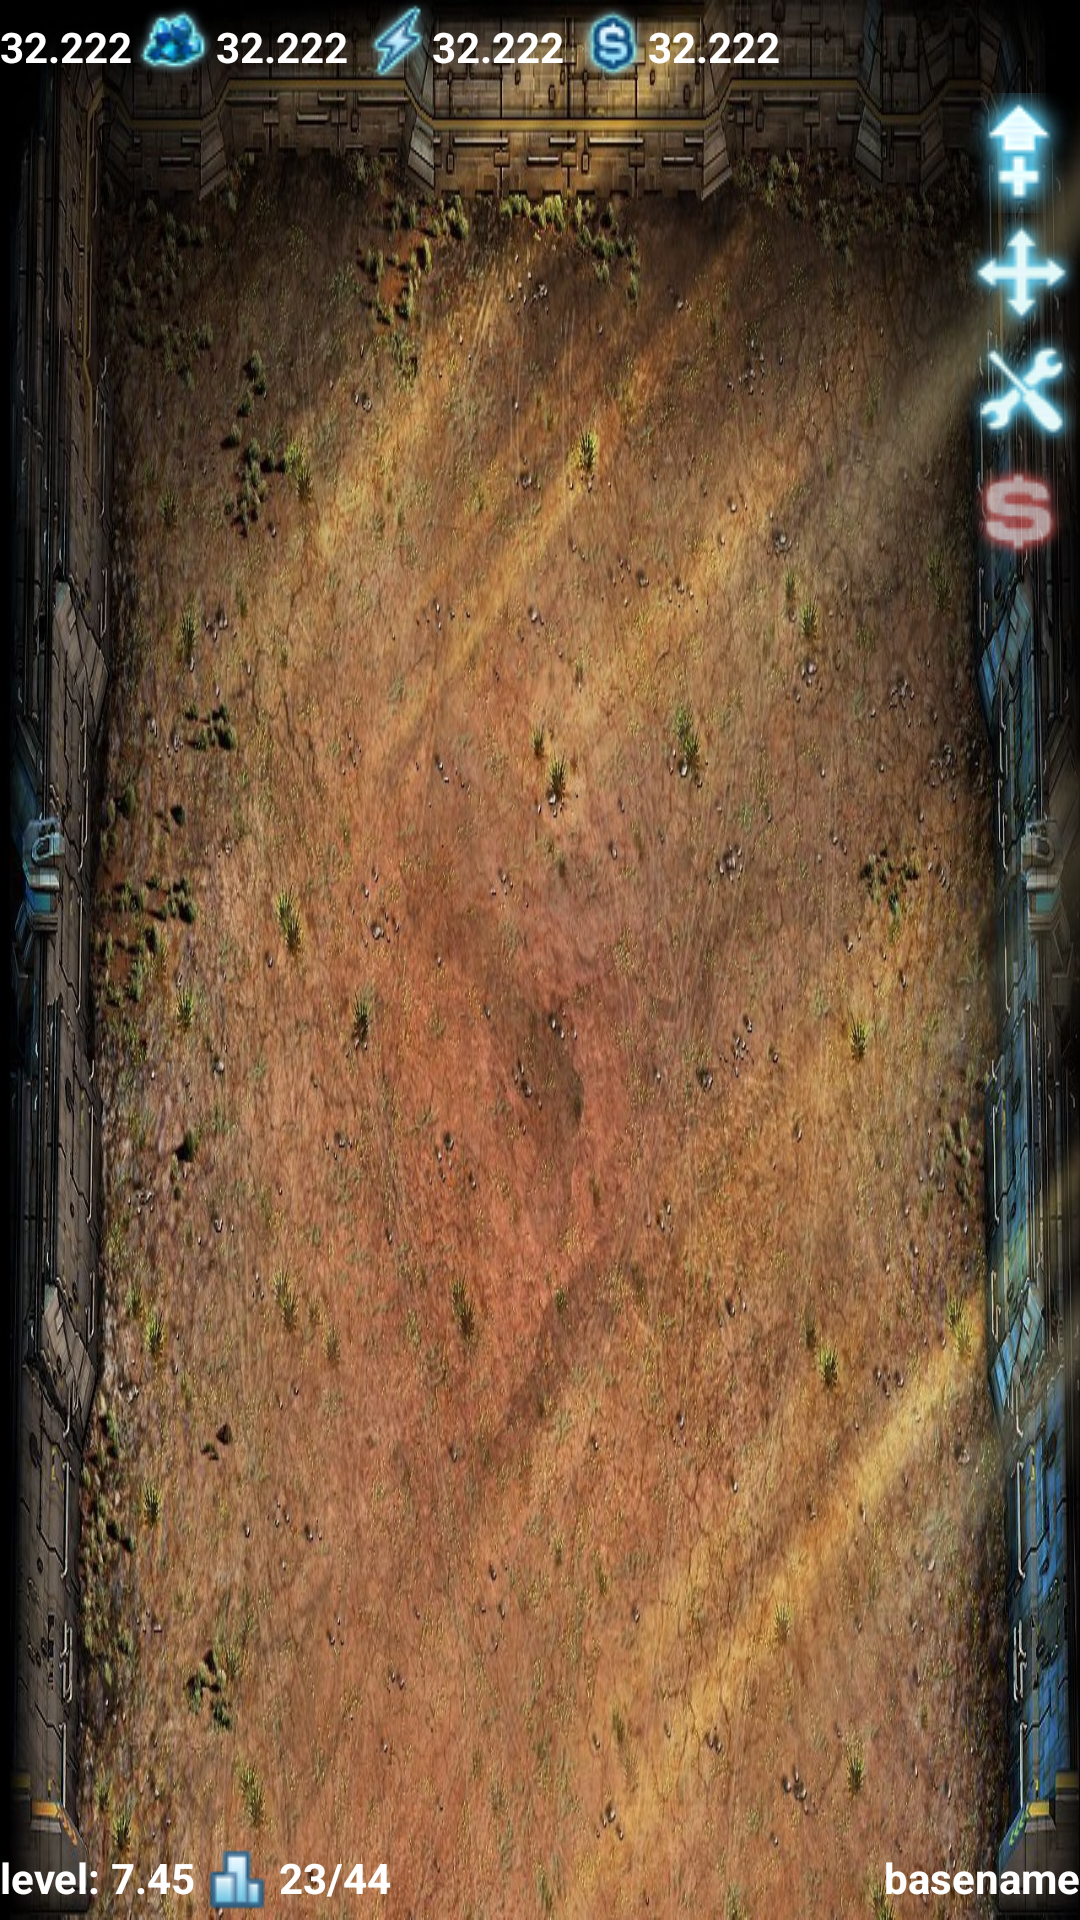

Icons on this 1080px×1920px Android screen, each with the point to tap as (x=x, y=y):
building limit: (x=237, y=1878)
credit: (x=606, y=42)
crystal: (x=174, y=42)
fix: (x=1020, y=393)
move: (x=1020, y=273)
power: (x=390, y=42)
sell: (x=1020, y=513)
upgrade: (x=1020, y=153)
